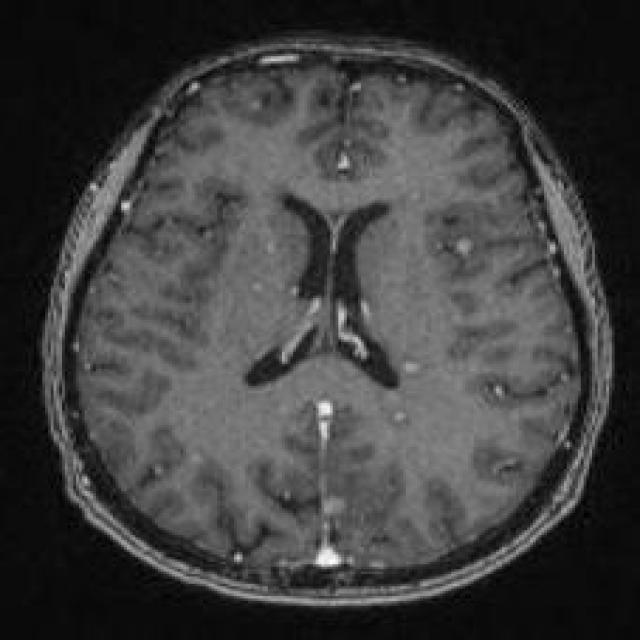no-tumor: (171, 116, 508, 485)
